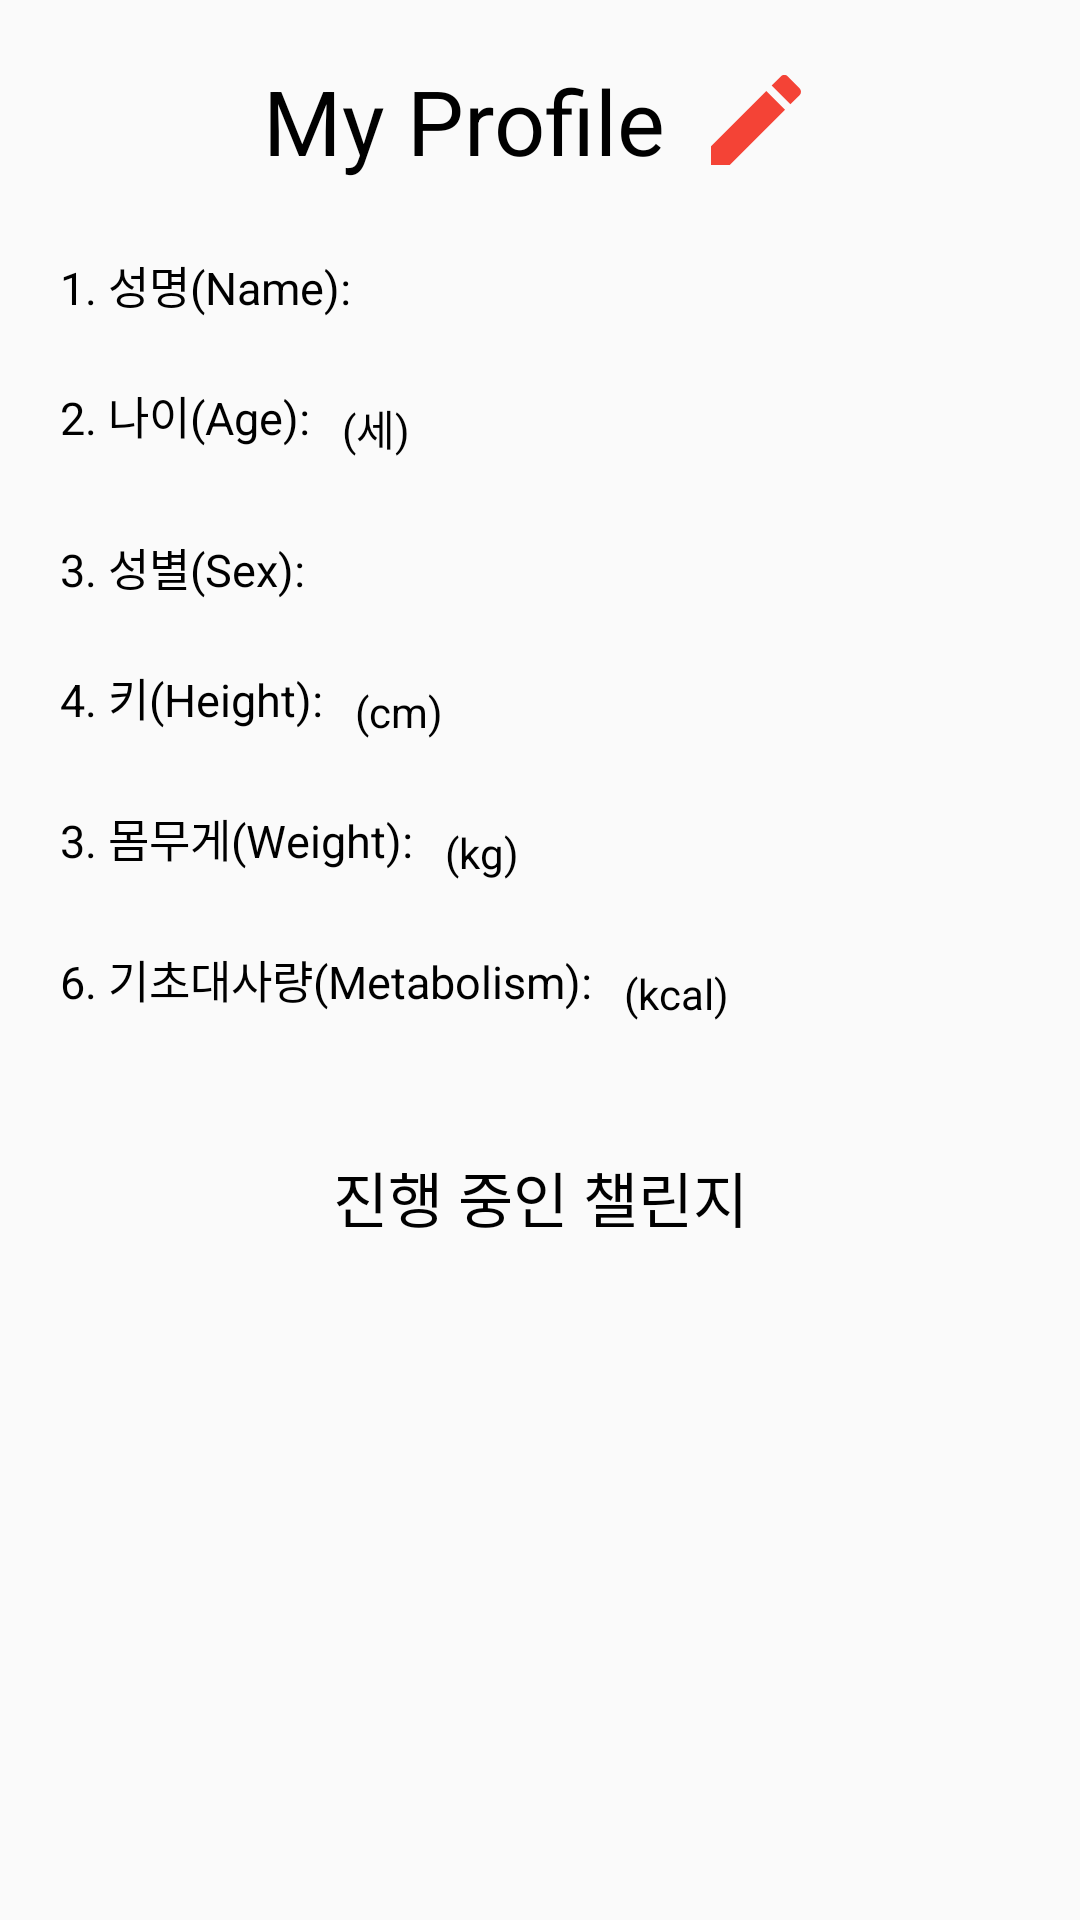

Locate icon controls on the screen. Image size 1080px×1920px, boxes as {"left": x1, "top": y1, "right": x2, "bottom": y2}.
edit: {"left": 711, "top": 75, "right": 801, "bottom": 165}
